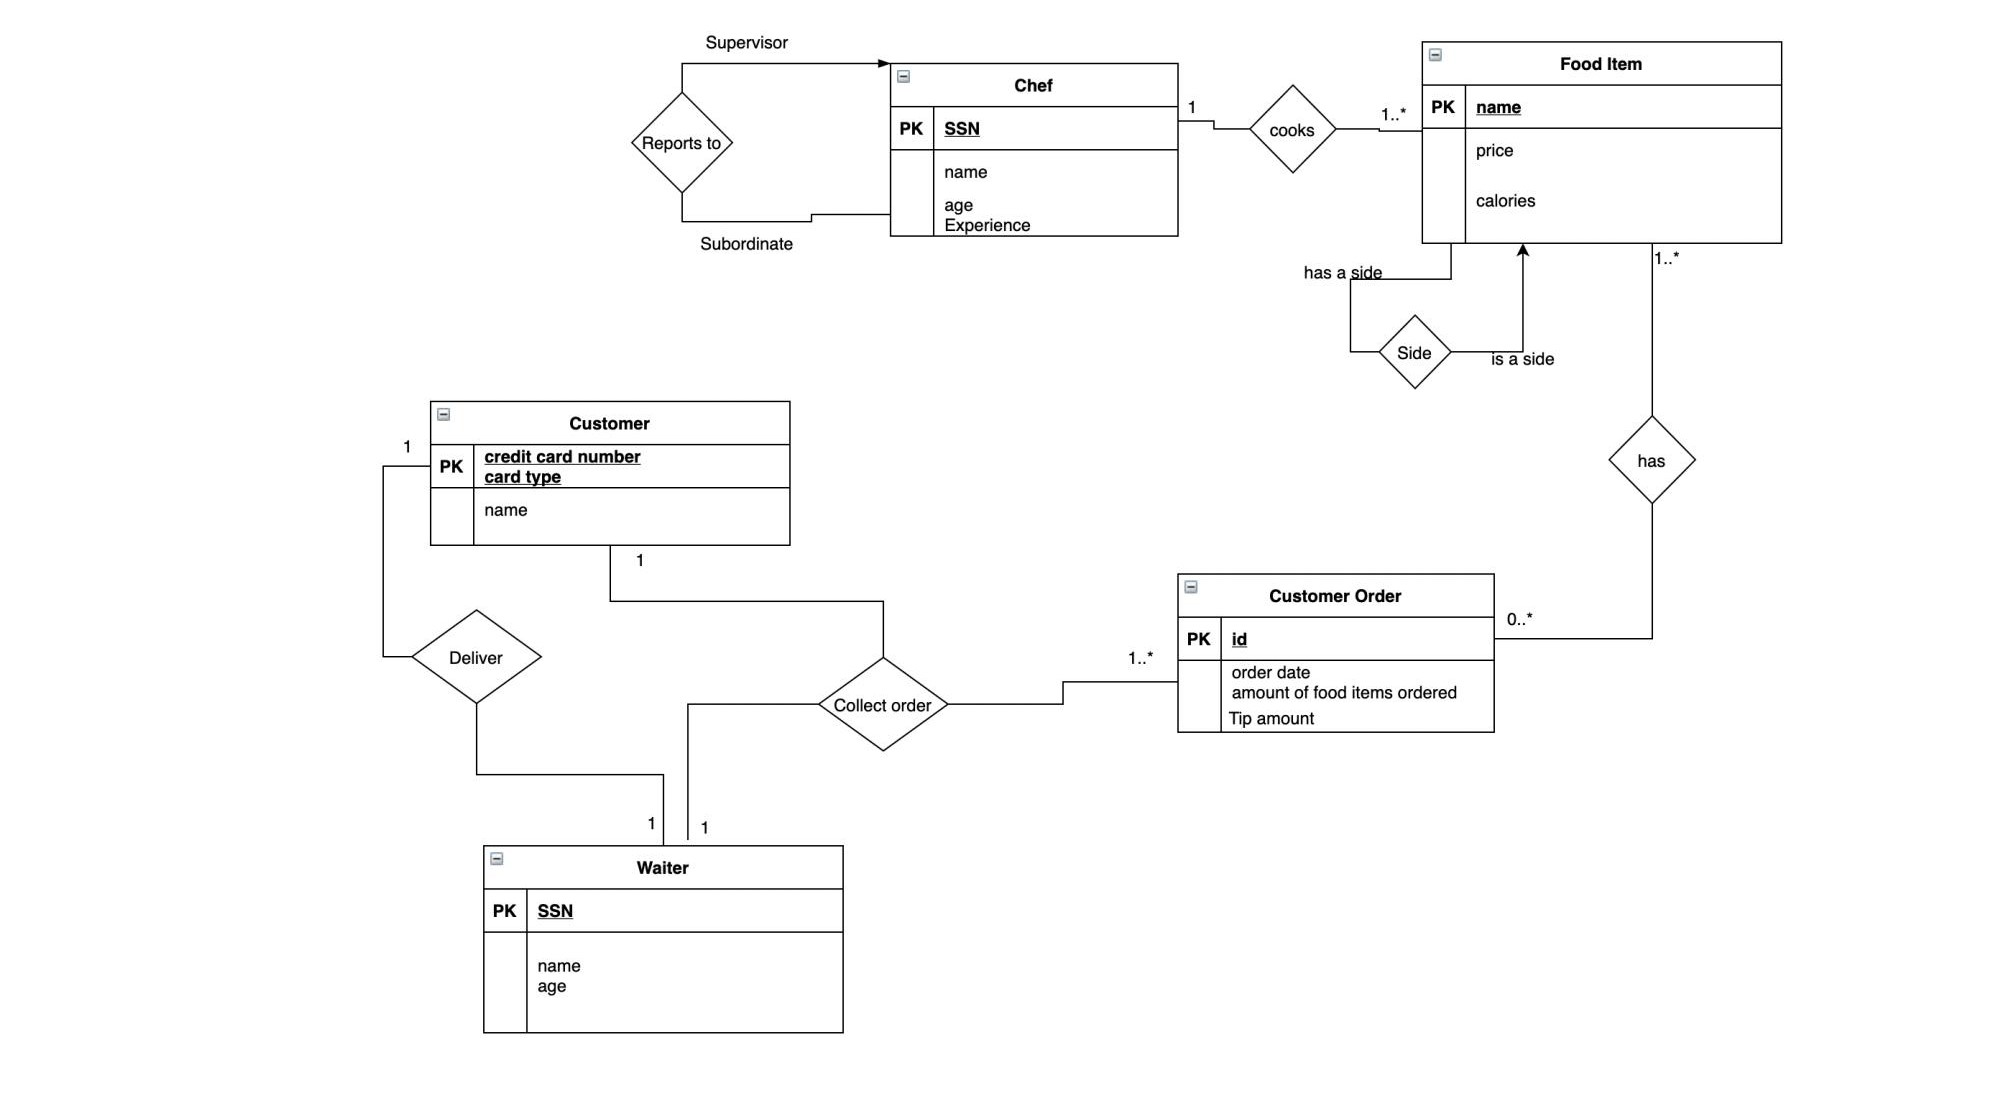Entity: (1420, 40, 1783, 245), (482, 847, 845, 1036), (431, 401, 793, 548), (888, 61, 1180, 238), (1176, 572, 1496, 734)
Relationship: (817, 656, 949, 752), (410, 608, 541, 703), (630, 93, 735, 192), (1608, 415, 1697, 503), (1251, 83, 1336, 174), (1376, 314, 1450, 389)
